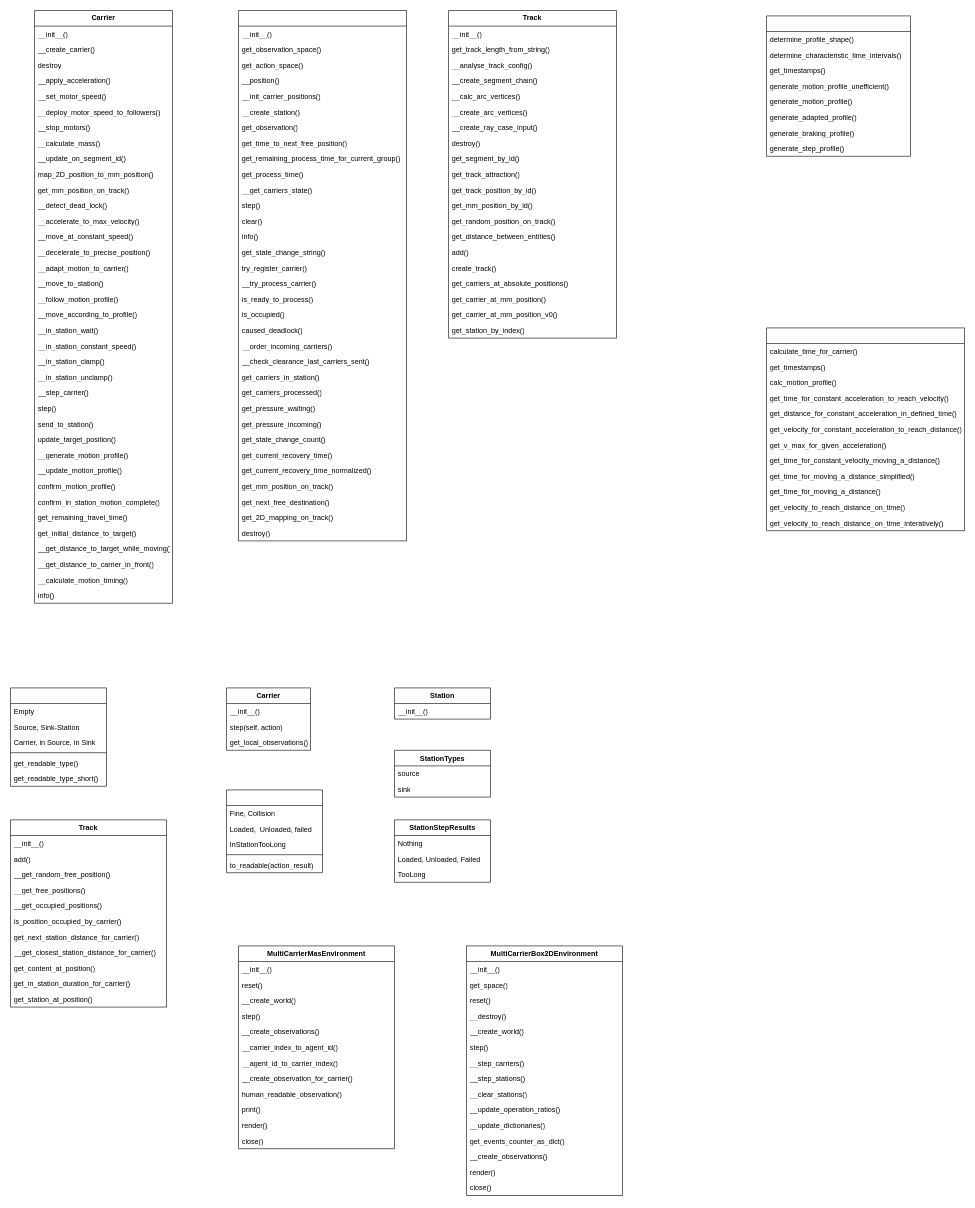
The diagram is 975 pixels wide and 1208 high, and some of its shapes have lost their labels. Here are the shapes that lost their labels. From the top down, the box of each, then its label:
(766, 15, 910, 156): MotionProfileCalculatorWithJerk
(238, 10, 406, 541): GenericStation
(766, 327, 964, 531): MotionProfileCalculator
(10, 687, 106, 786): TrackContentTypes
(226, 789, 322, 873): CarrierActionsResult
